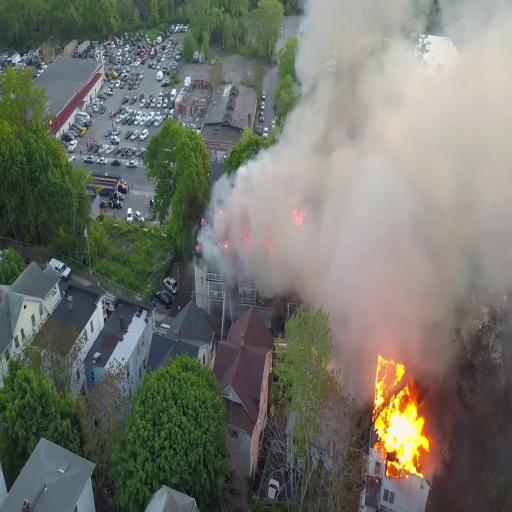fire: (378, 370, 428, 482)
smoke: (245, 159, 512, 296)
